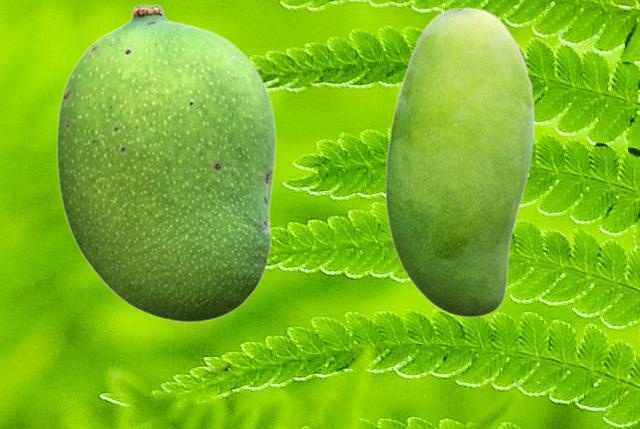green_mango: (55, 3, 275, 322), (384, 6, 534, 317)
